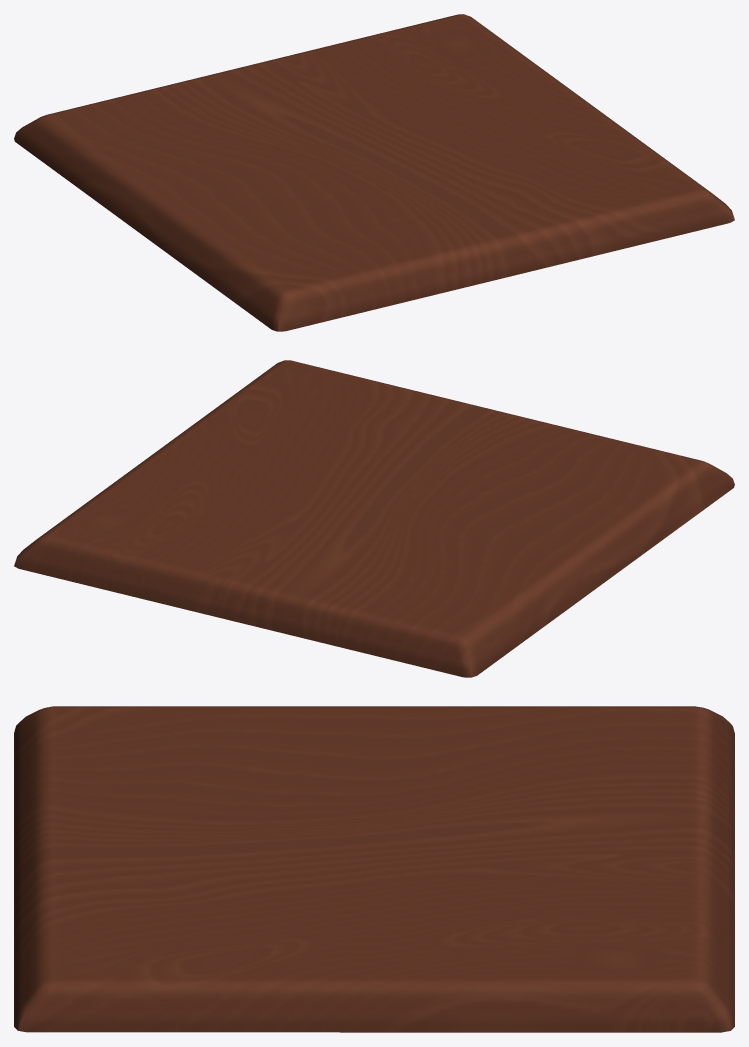
The model's file is Floor.fbx.
3 views of the same model, one above another, from view 1: azimuth 30°, elevation 25°; view 2: azimuth 150°, elevation 25°; view 3: azimuth 270°, elevation 25° (orthographic). The views are drawn at different scales.
Parts seen in each view (by area): view 1: Floor; view 2: Floor; view 3: Floor.
Boxes of the visible parts, x1,y1,x2,y2 form: Floor: (14,14,734,331); Floor: (14,360,734,677); Floor: (14,706,734,1032).
Bounding box in the file's own units: 1 × 0.0554 × 1.
Materials: 1 (1 with a texture image).
